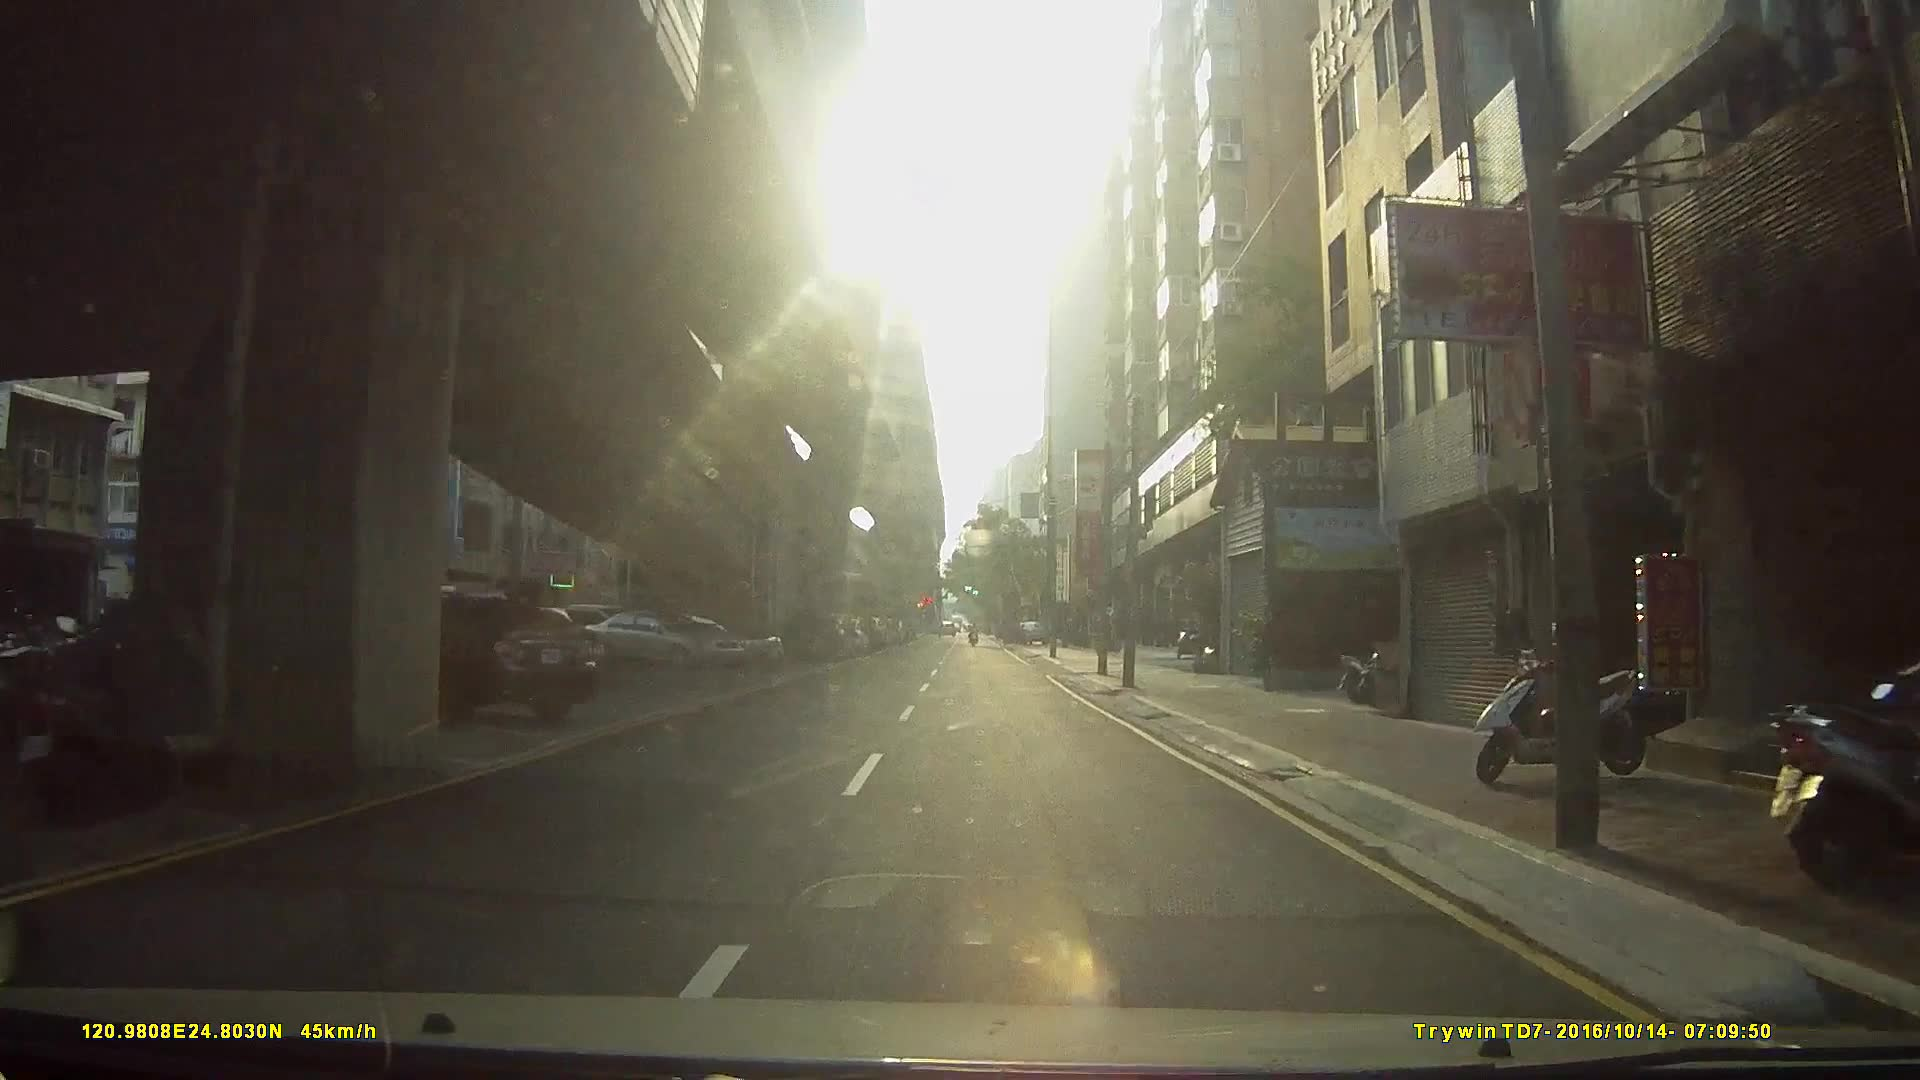vehicle: (357, 597, 600, 731), (580, 611, 746, 673), (782, 608, 847, 666)
